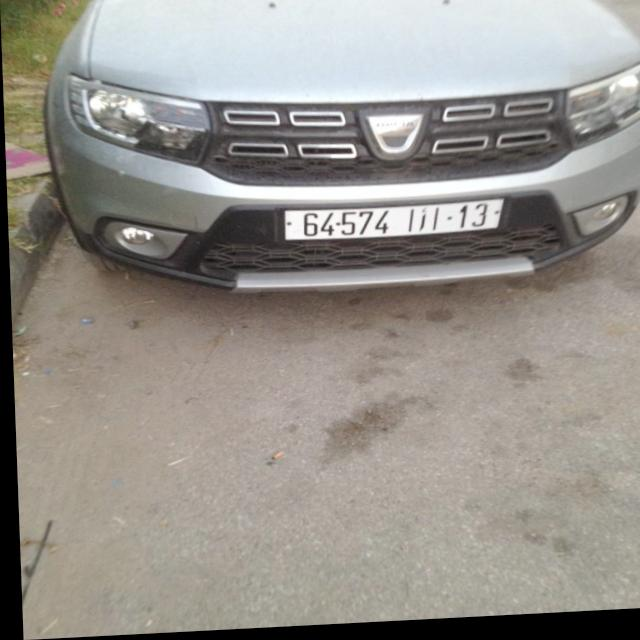License-Plate: (283, 204, 502, 244)
